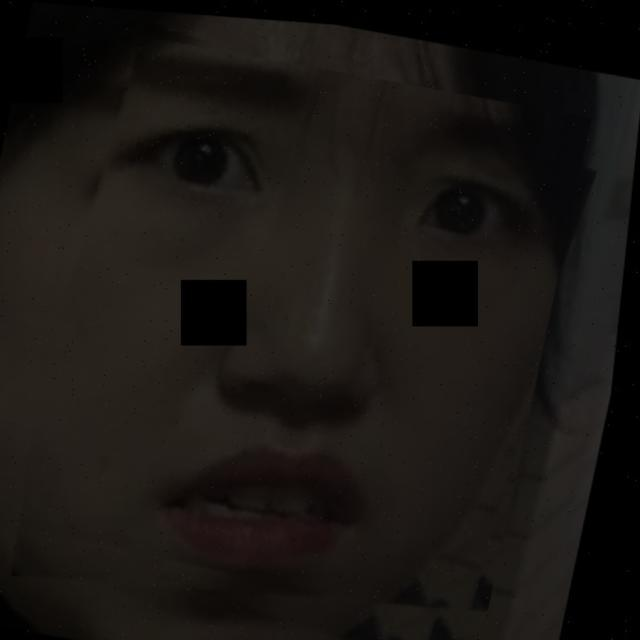Surprised: (72, 66, 550, 605)
